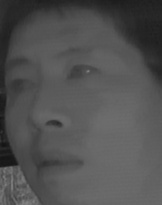eye: (64, 60, 99, 84), (6, 74, 36, 96)
mouth: (29, 145, 83, 181)
